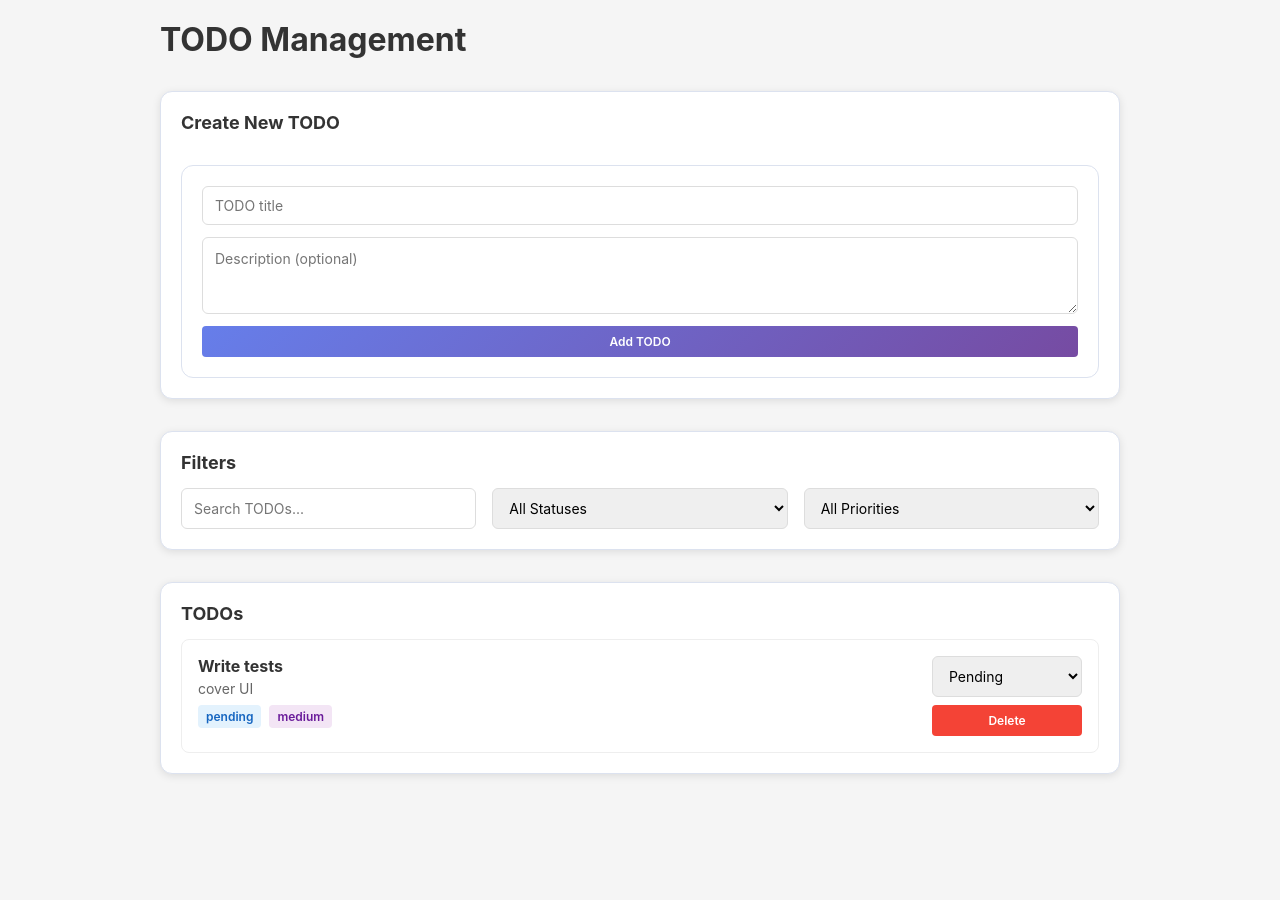
Test: Todos page › updates status from the select
Step 1. Select "Completed" in the dropdown with test id "todo-status-select-t1" → (1007, 676), box [932,656,1082,697]
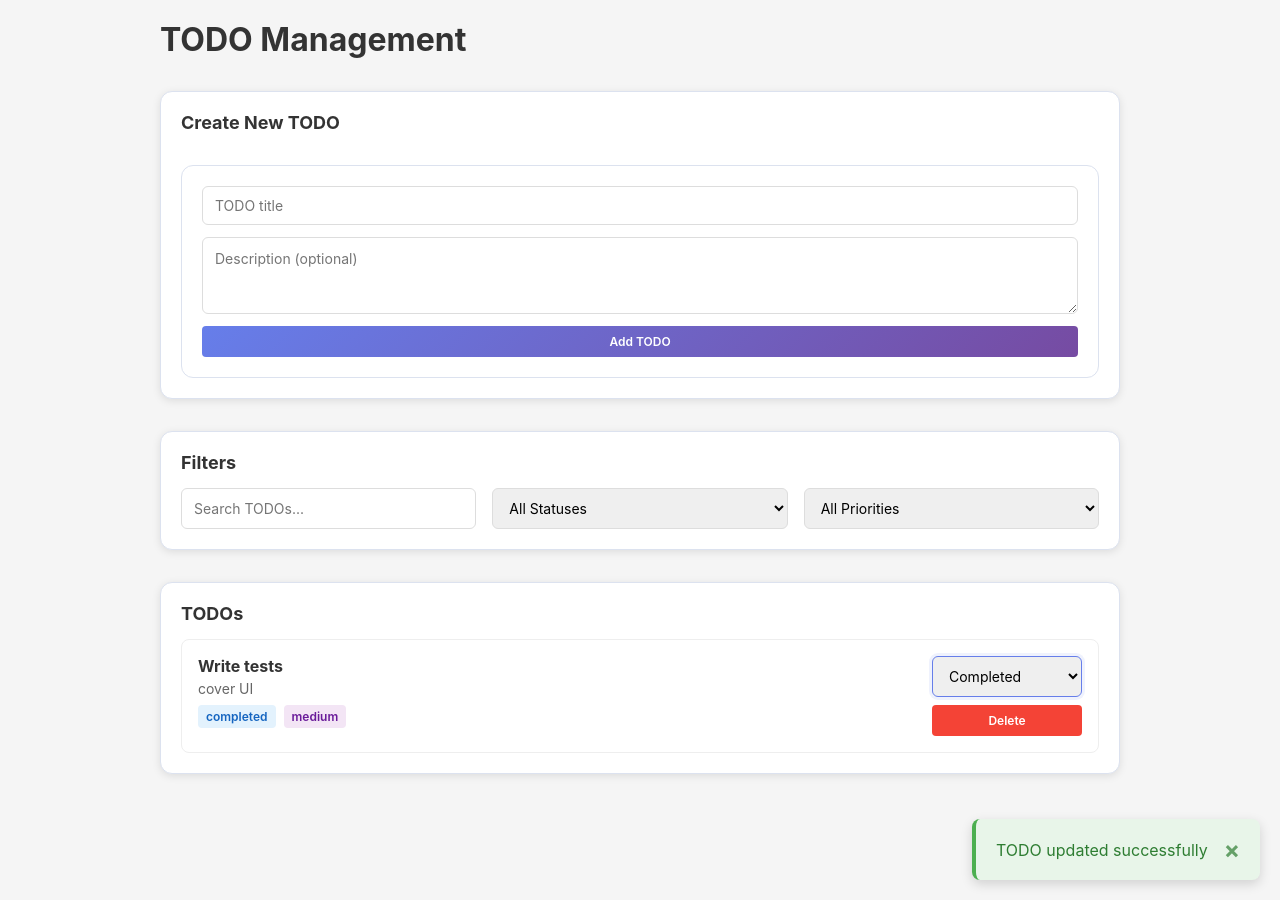
Expected: the message with test id "toast" shows "TODO updated successfully", [996,840,1208,860]
